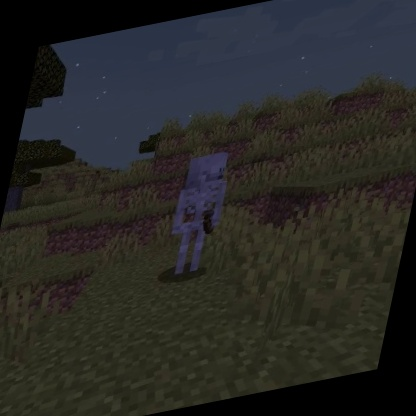skeleton: (156, 144, 242, 282)
